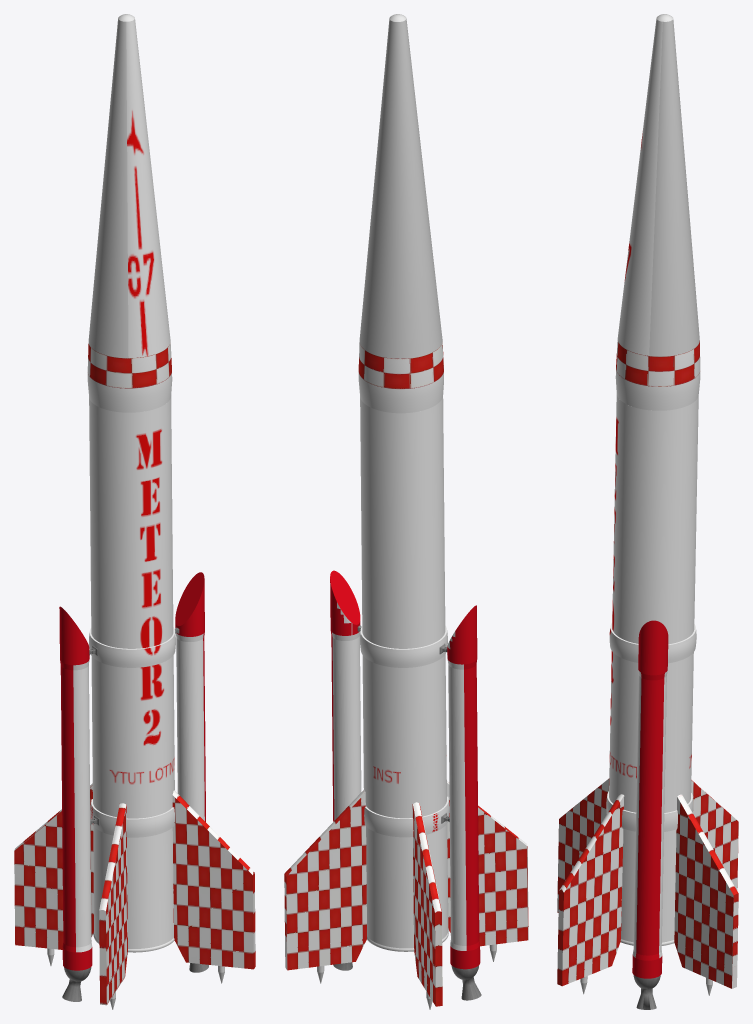
File: MeteorII V6.gltf
The picture shows the model from 3 angles, left to right: view 1: azimuth 30°, elevation 25°; view 2: azimuth 150°, elevation 25°; view 3: azimuth 270°, elevation 25°; orthographic projection.
Parts seen in each view (by area): view 1: Cylinder.003, Cylinder.002, Cube, Cylinder.001, Cube.001, Cylinder.006, Cylinder.009, Cylinder.008; view 2: Cylinder.003, Cylinder.002, Cube.001, Cylinder.001, Cube, Cylinder.006, Cylinder.009, Cylinder.008; view 3: Cylinder.003, Cylinder.002, Cube.001, Cube, Cylinder.001, Cylinder.006, Cylinder.009, Cylinder.008.
Boxes of the visible parts, box(x1,y1,x2,y2) form: Cylinder.003: box(89, 396, 174, 952); Cylinder.002: box(87, 18, 172, 412); Cube: box(14, 783, 255, 969); Cylinder.001: box(59, 572, 205, 970); Cube.001: box(99, 803, 127, 1005); Cylinder.006: box(89, 627, 175, 667); Cylinder.009: box(90, 799, 174, 837); Cylinder.008: box(62, 963, 208, 1001); Cylinder.003: box(360, 397, 448, 951); Cylinder.002: box(358, 18, 443, 413); Cube.001: box(284, 781, 528, 970); Cylinder.001: box(330, 570, 480, 969); Cube: box(412, 802, 442, 1006); Cylinder.006: box(360, 625, 447, 667); Cylinder.009: box(364, 796, 449, 837); Cylinder.008: box(333, 962, 481, 1000); Cylinder.003: box(609, 394, 698, 945); Cylinder.002: box(615, 16, 700, 410); Cube.001: box(557, 778, 738, 988); Cube: box(557, 780, 738, 986); Cylinder.001: box(632, 620, 668, 978); Cylinder.006: box(609, 622, 696, 663); Cylinder.009: box(606, 791, 693, 831); Cylinder.008: box(633, 975, 660, 1009).
Bounding box in the file's own units: 0.7662 × 4.53 × 0.7737.
Materials: 10 (7 with a texture image).
